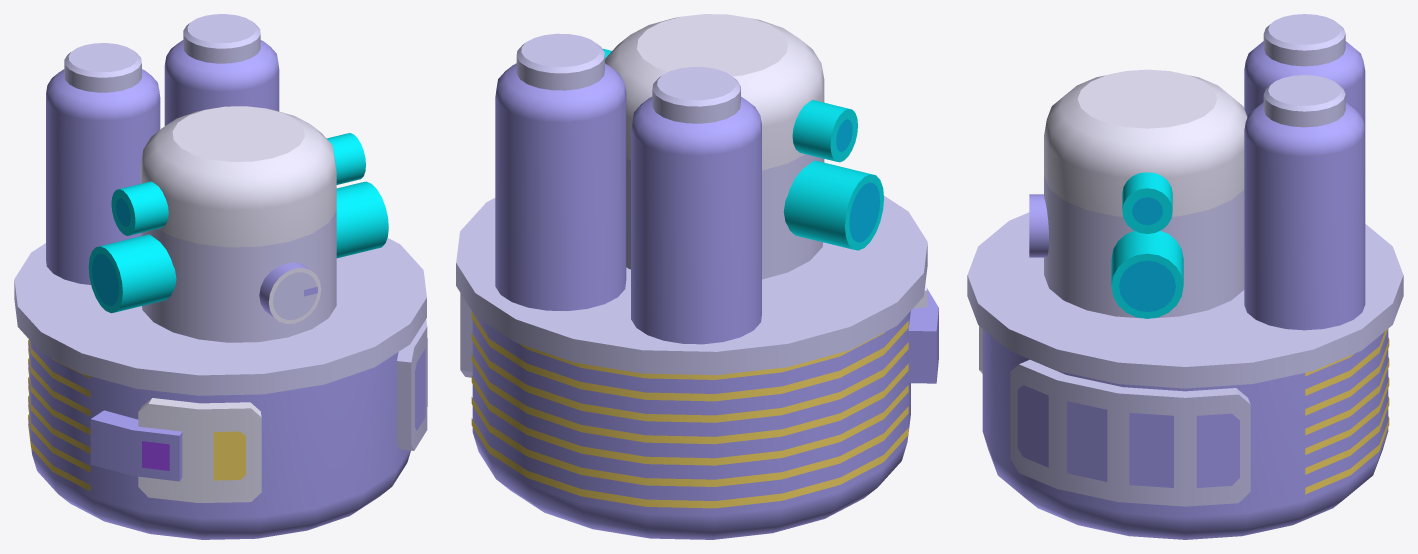
Rendered from Building_018_a.fbx.
The picture shows the model from 3 angles, left to right: view 1: azimuth 30°, elevation 25°; view 2: azimuth 150°, elevation 25°; view 3: azimuth 270°, elevation 25°; orthographic projection. The views are drawn at different scales.
Visible parts, largest first — view 1: Building_018_a; view 2: Building_018_a; view 3: Building_018_a.
Part boxes in pixels (box(x1,y1,x2,y2)): Building_018_a: box(14, 14, 427, 539); Building_018_a: box(456, 14, 938, 539); Building_018_a: box(967, 14, 1403, 539).
Size of the model in its own units: 7.47 by 7.69 by 7.47.
